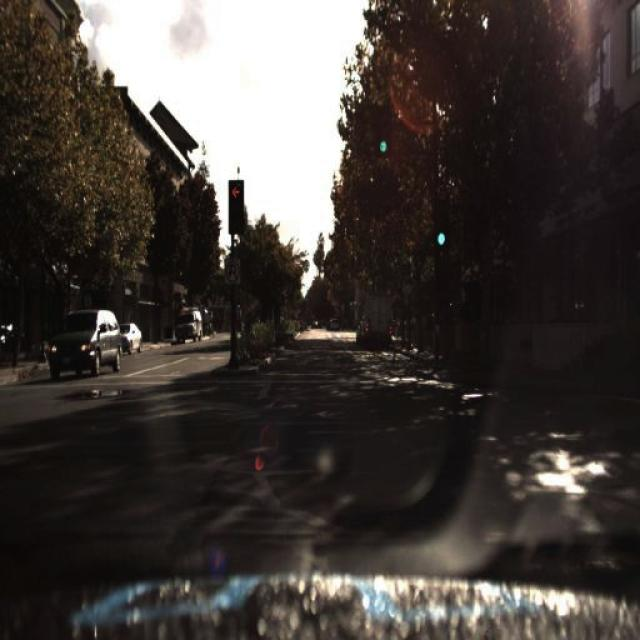semaforo: (227, 180, 245, 236), (432, 197, 450, 251), (374, 108, 392, 156)
